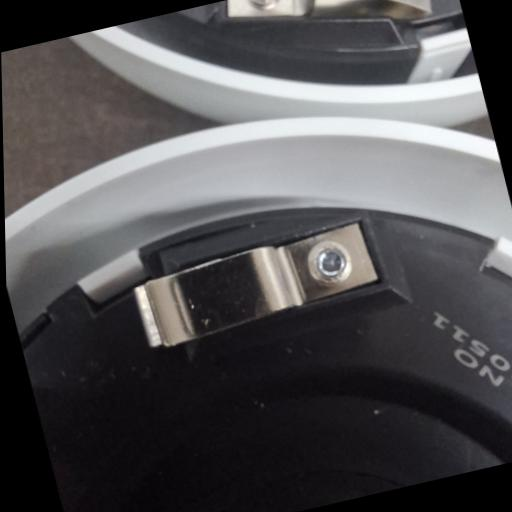yayli: (126, 218, 386, 353), (223, 0, 440, 58)
